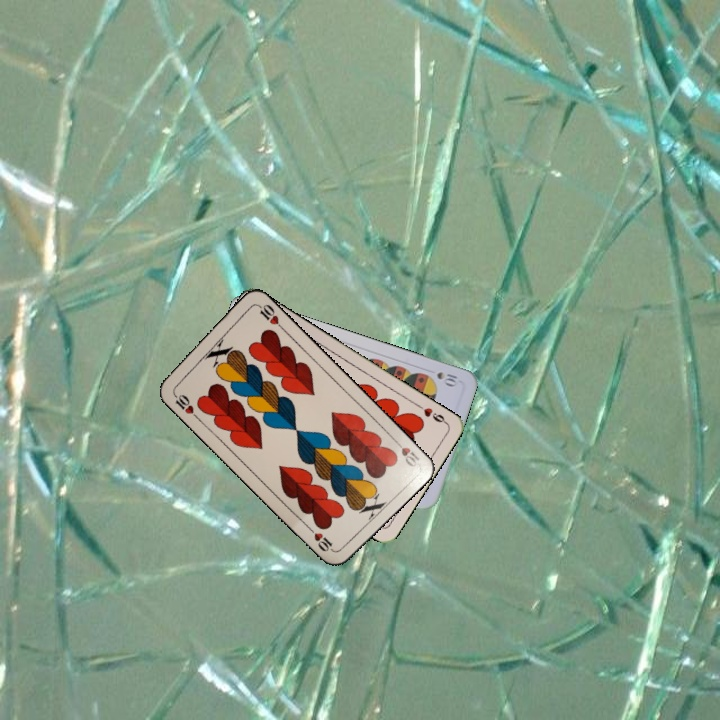H10: (390, 435, 424, 471), (169, 389, 201, 421)
H9: (413, 400, 449, 426)
S10: (433, 368, 461, 389)
